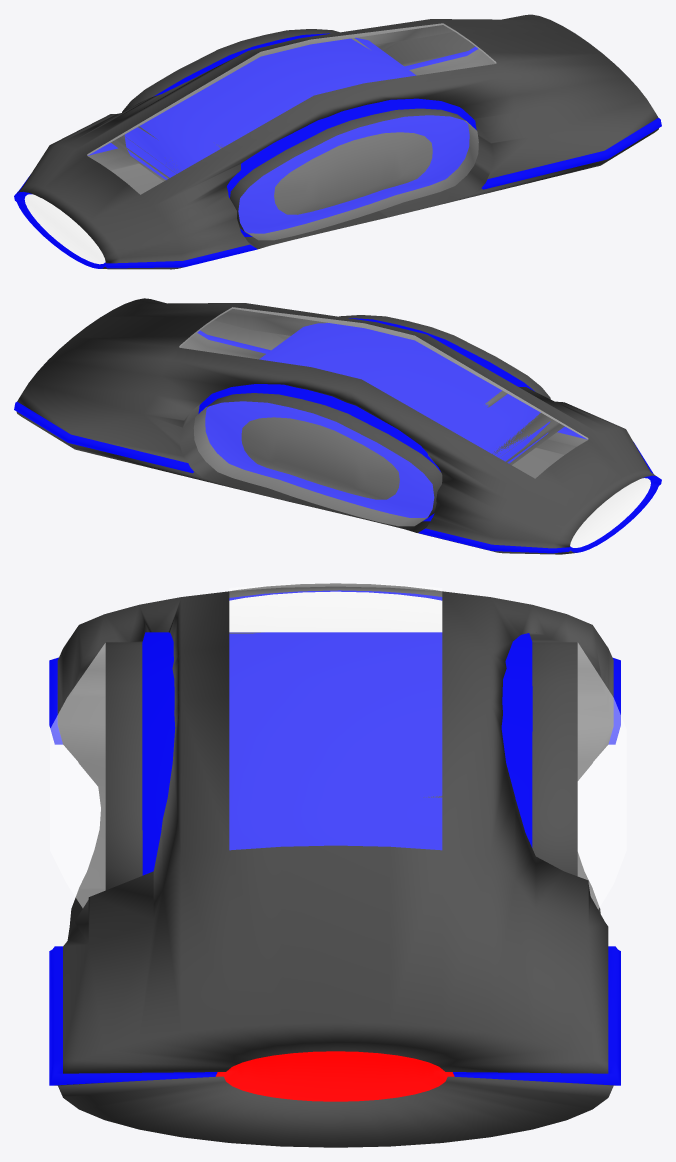
Rendered from car1.glb.
3 renders of one model, top to bottom at view 1: azimuth 30°, elevation 25°; view 2: azimuth 150°, elevation 25°; view 3: azimuth 270°, elevation 25°, orthographic. The views are drawn at different scales.
Parts seen in each view (by area): view 1: Flying Car 1; view 2: Flying Car 1; view 3: Flying Car 1.
Part boxes in pixels (x1=…): Flying Car 1: x1=14, y1=14, x2=661, y2=269; Flying Car 1: x1=14, y1=298, x2=661, y2=554; Flying Car 1: x1=49, y1=583, x2=626, y2=1147.
Bounding box in the file's own units: 18.97 × 4.36 × 8.95.
